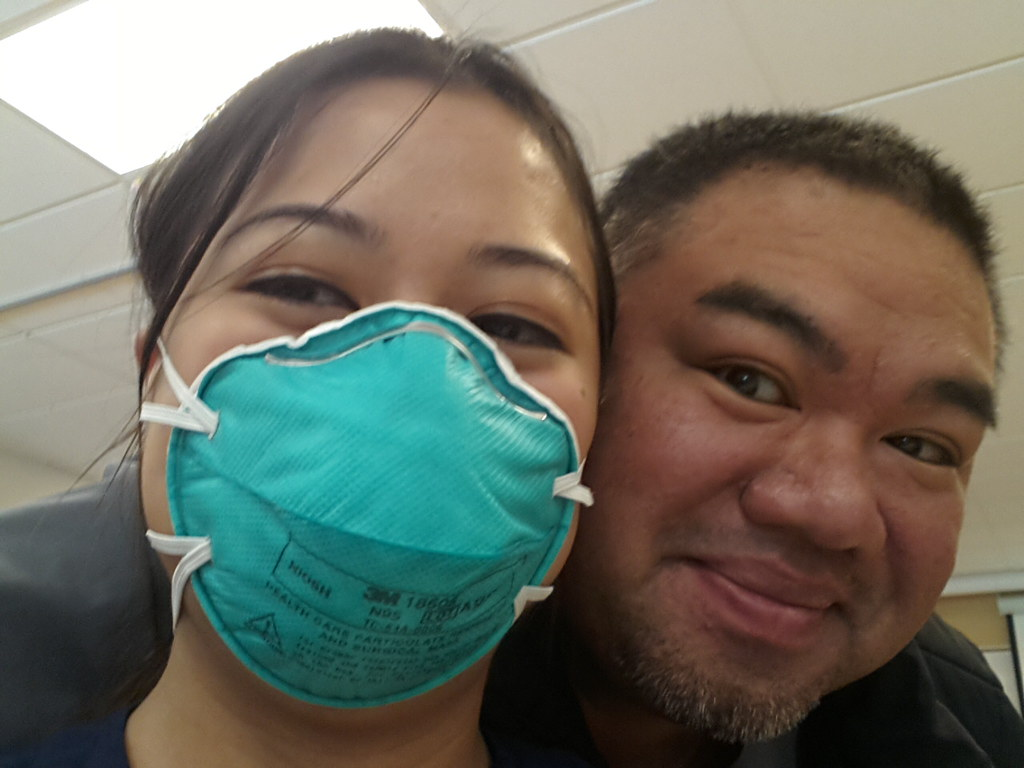bare: (574, 445, 965, 744)
n95: (150, 300, 593, 707)
